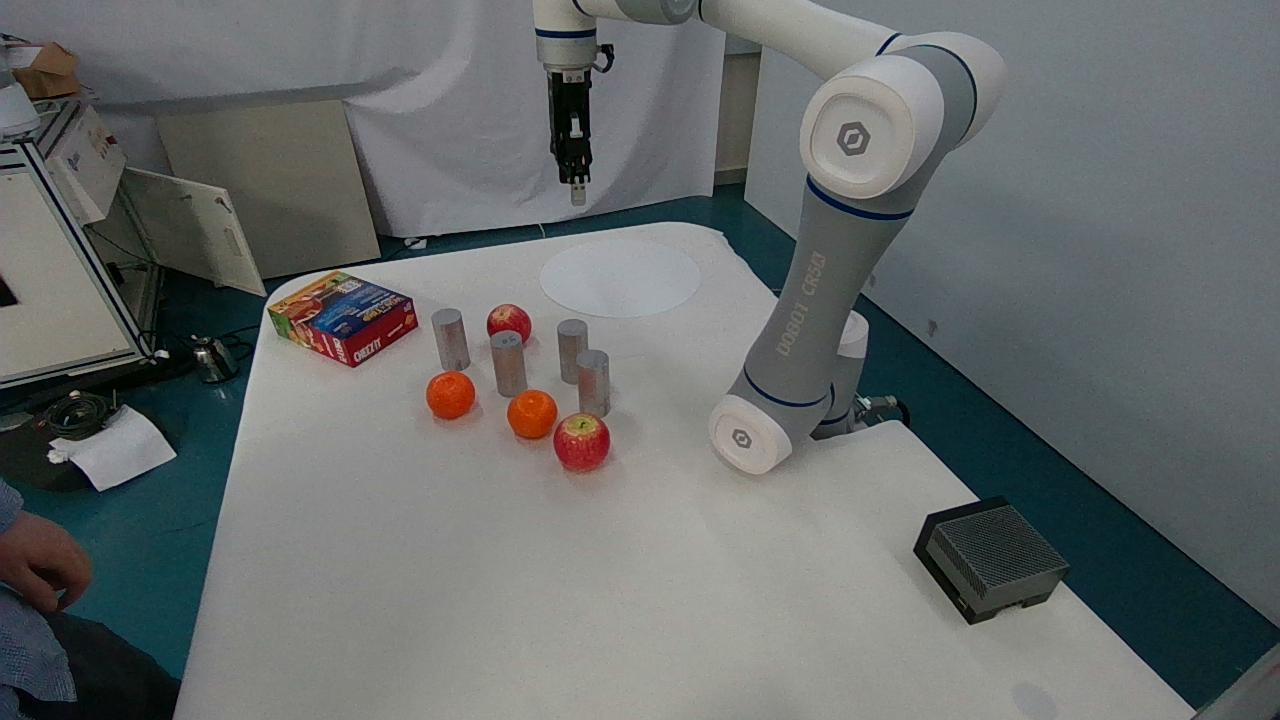apple: (532, 406, 618, 478), (479, 295, 537, 342)
metal rod: (472, 321, 538, 397), (570, 343, 619, 417), (424, 301, 473, 375)
orange: (407, 361, 485, 426), (498, 380, 561, 440)
